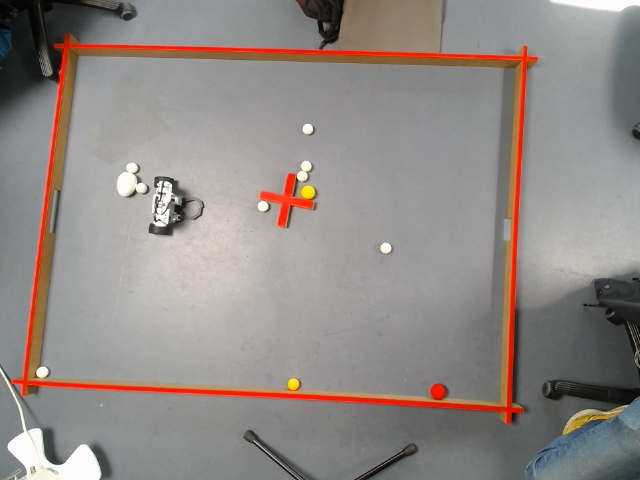big_goal: (24, 174, 73, 242)
cross: (239, 158, 328, 232)
egg: (103, 164, 143, 206)
orange: (294, 179, 325, 209), (278, 369, 307, 400)
robot: (140, 167, 211, 246)
small_goal: (490, 206, 529, 250)
wall: (4, 370, 530, 431), (7, 21, 82, 403), (38, 22, 548, 73), (482, 33, 545, 434)
white: (283, 149, 322, 181), (22, 359, 61, 387), (287, 116, 323, 140), (245, 192, 275, 220), (368, 235, 403, 258), (287, 164, 319, 186), (115, 157, 146, 177), (129, 175, 154, 199)
